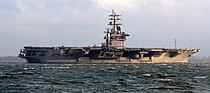MIL_Ship: (19, 12, 200, 63)
